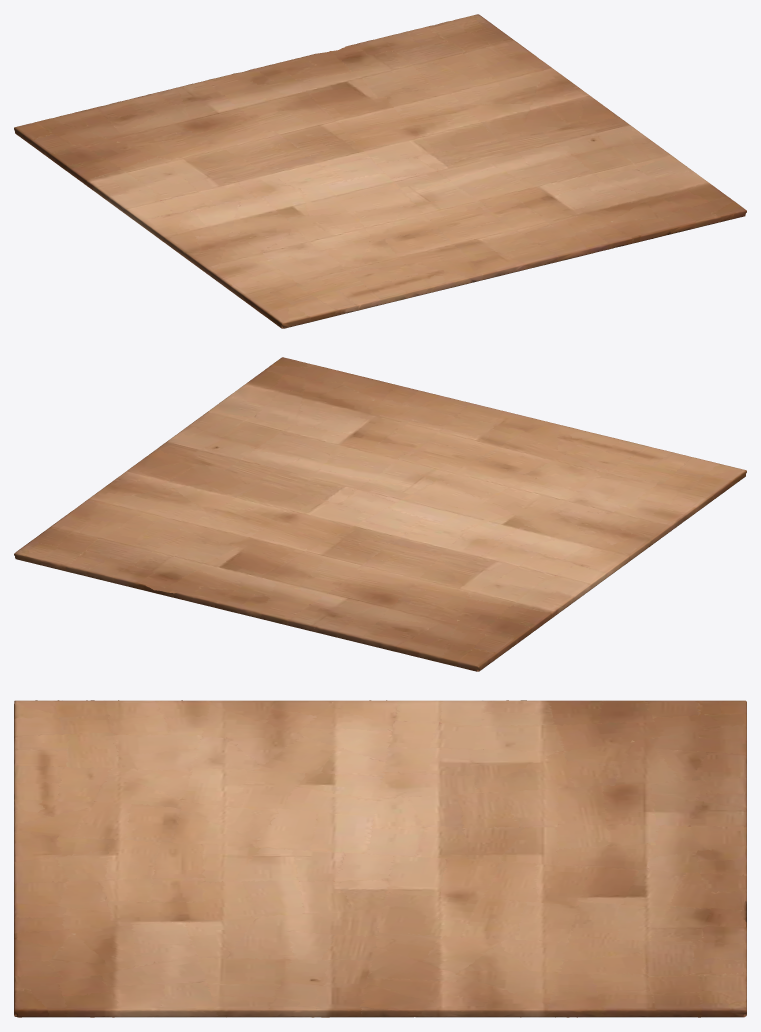
Rendered from flooring1.glb.
3 views of the same model, one above another, from view 1: azimuth 30°, elevation 25°; view 2: azimuth 150°, elevation 25°; view 3: azimuth 270°, elevation 25° (orthographic). The views are drawn at different scales.
Bounding box in the file's own units: 1.9 × 0.025 × 1.9.
1 material, 1 textured.
